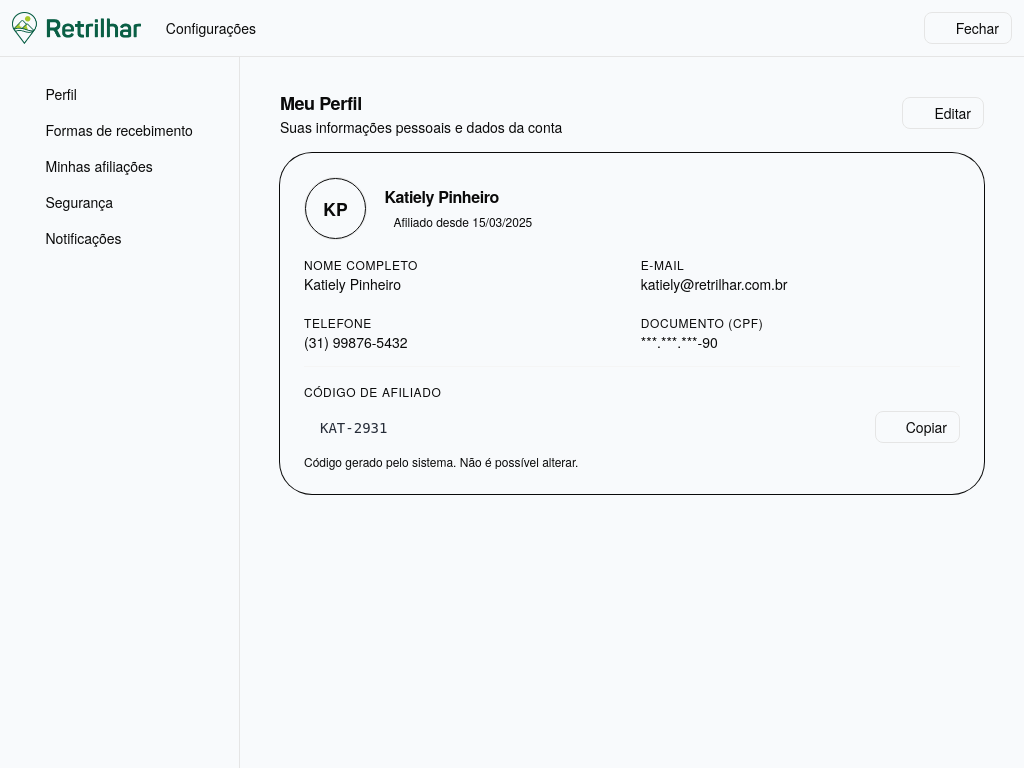
Scenario: ConfiguracoesPage › uses affiliation terminology and only exposes the confirmed status taxonomy
Click the button "Minhas afiliações" at (120, 166), box [12,149,227,183]
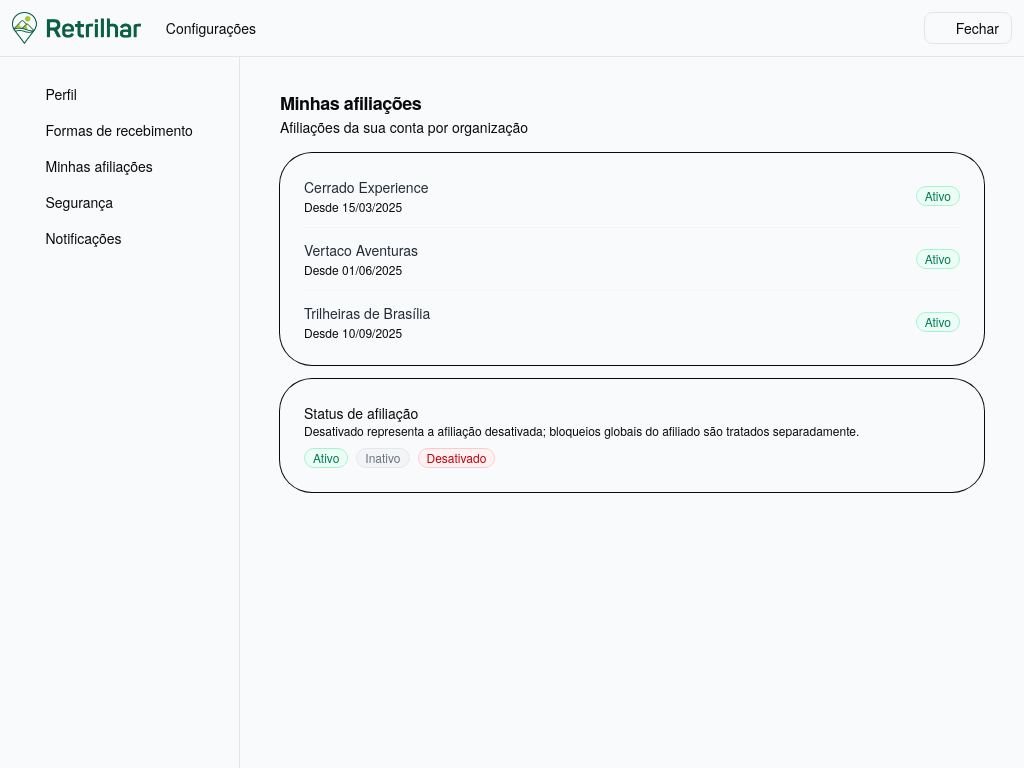
Expected: the text "Afiliações da sua conta por organização" is shown, [280,117,528,137]
Expected: the number of icons "Ativo" is 4, [916,186,960,206]; [916,249,960,269]; [916,312,960,332]; [304,448,348,468]
Expected: the icon "Ativo" next to "Inativo" is shown, [313,449,339,466]
